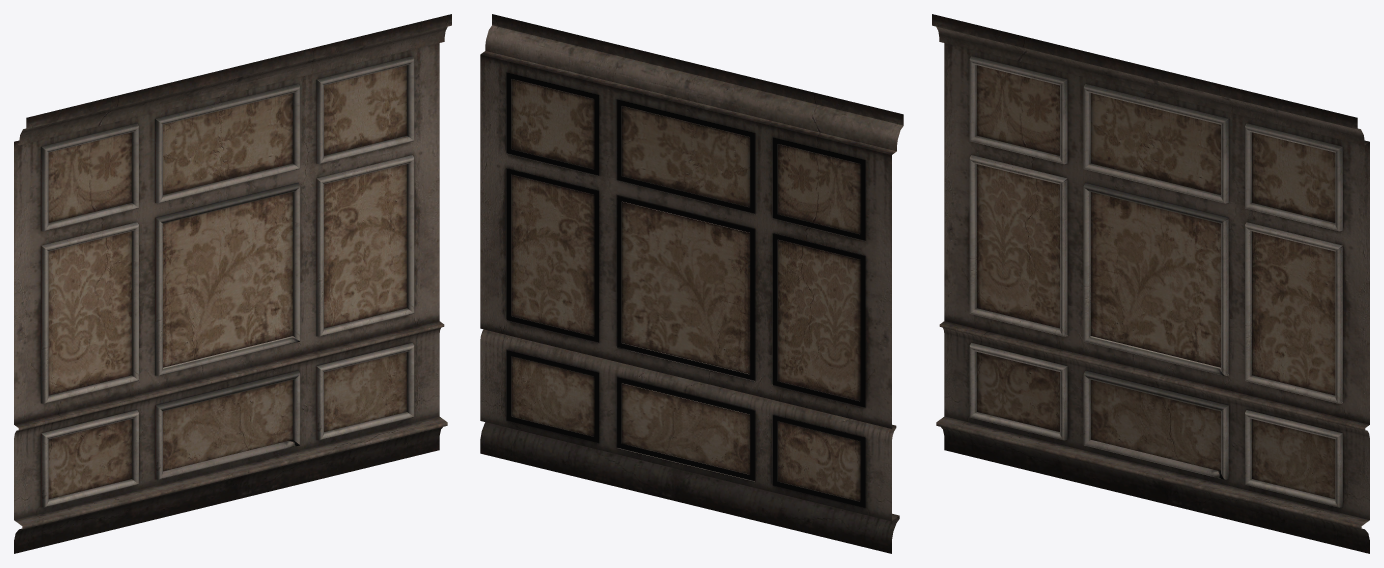
3 renders of one model, left to right at view 1: azimuth 30°, elevation 25°; view 2: azimuth 150°, elevation 25°; view 3: azimuth 330°, elevation 25°, orthographic. The views are drawn at different scales.
Visible parts, largest first — view 1: mansionbase_default; view 2: mansionbase_default; view 3: mansionbase_default.
Part boxes in pixels (box(x1,y1,x2,y2)): mansionbase_default: box(14, 14, 451, 553); mansionbase_default: box(480, 14, 903, 553); mansionbase_default: box(932, 14, 1369, 553).
Bounding box in the file's own units: 4 × 4 × 0.2045.
Materials: 1 (1 with a texture image).
